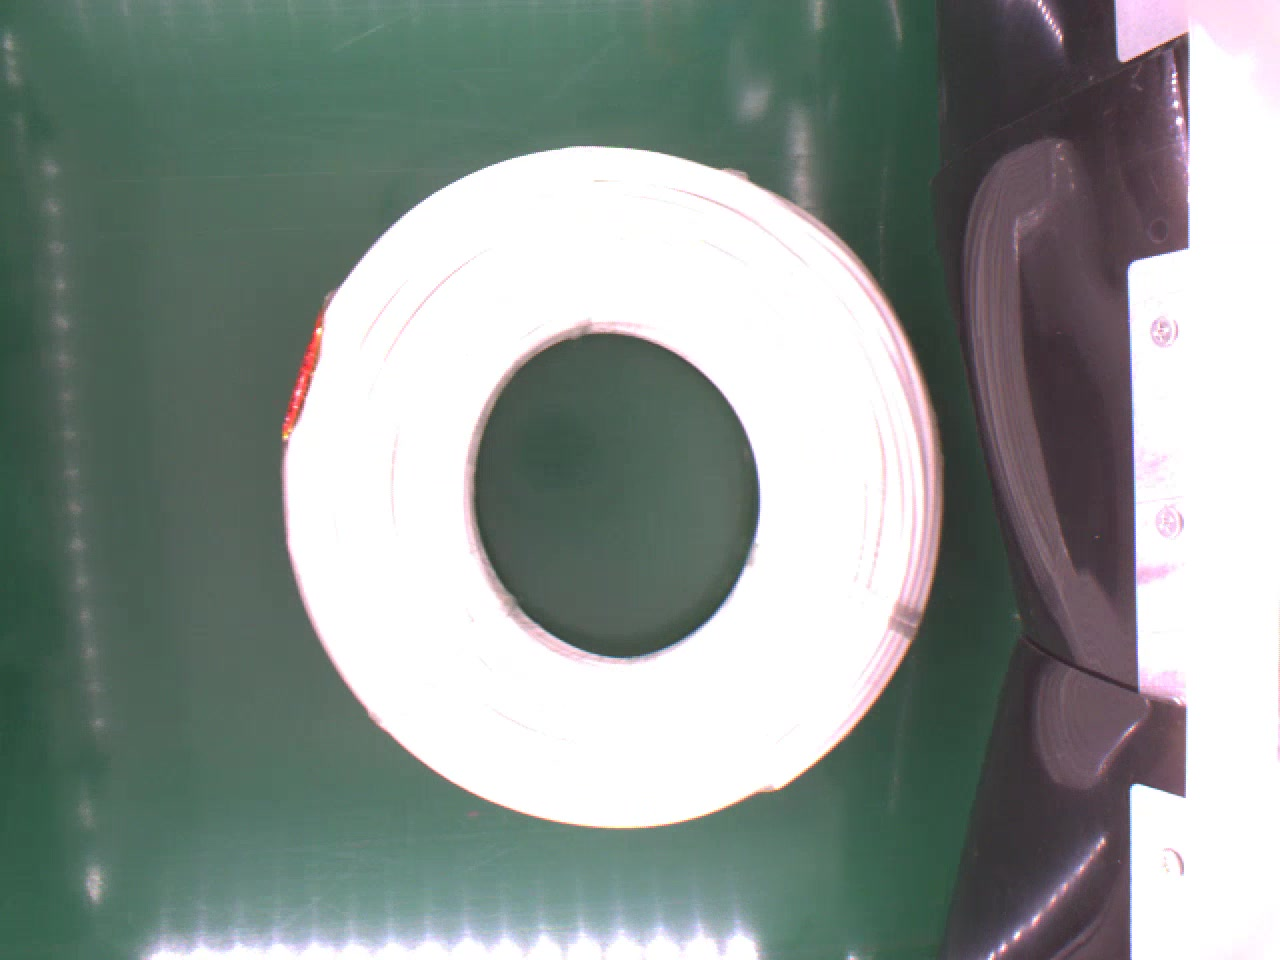white: (274, 138, 946, 830)
